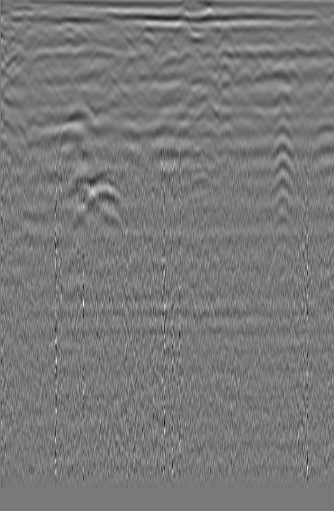상수: (282, 40, 312, 71)
오수: (0, 40, 40, 73)
우수: (147, 52, 182, 85)
